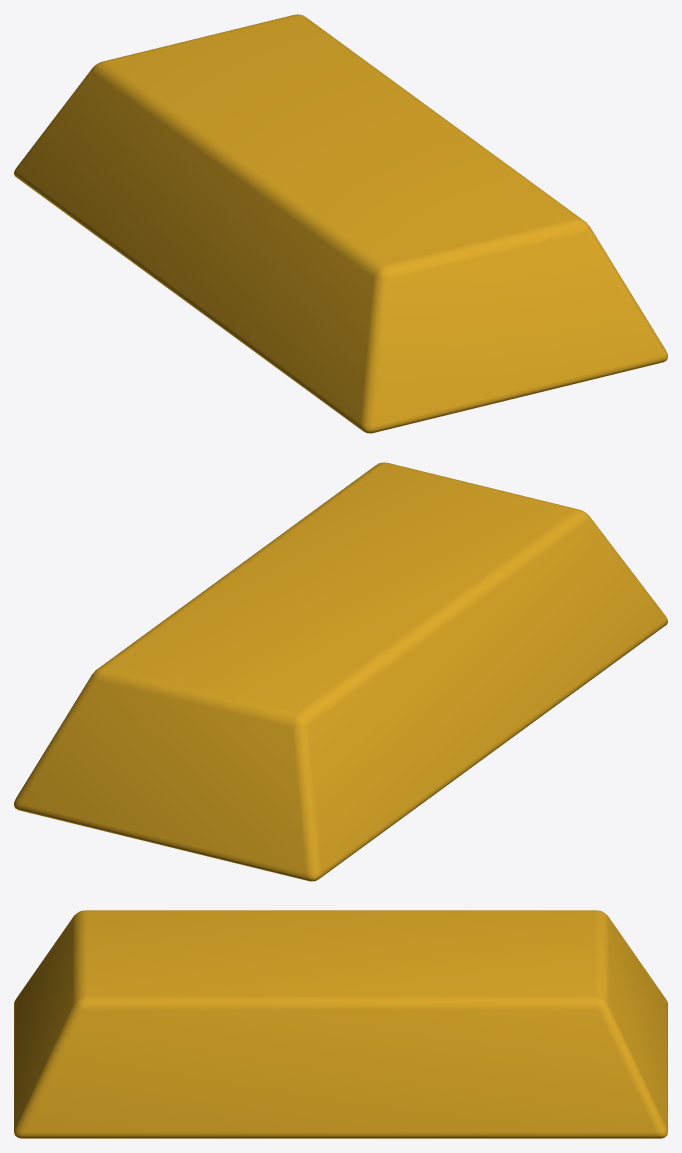
The model's file is sztaba.fbx.
The picture shows the model from 3 angles, top to bottom: view 1: azimuth 30°, elevation 25°; view 2: azimuth 150°, elevation 25°; view 3: azimuth 270°, elevation 25°; orthographic projection. The views are drawn at different scales.
Parts seen in each view (by area): view 1: Sztaba; view 2: Sztaba; view 3: Sztaba.
Part boxes in pixels (left/top/right/bottom): Sztaba: left=14, top=14, right=667, bottom=433; Sztaba: left=14, top=462, right=667, bottom=881; Sztaba: left=14, top=910, right=667, bottom=1138.
Bounding box in the file's own units: 98.16 × 39.53 × 198.
